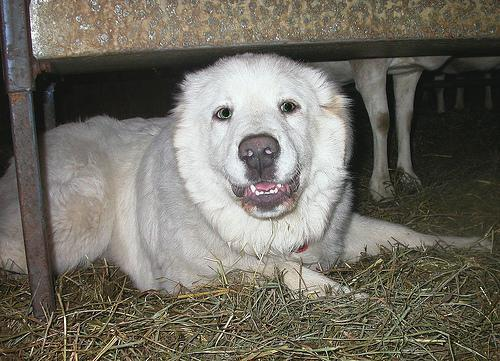Great_Pyrenees: (1, 51, 494, 298)
